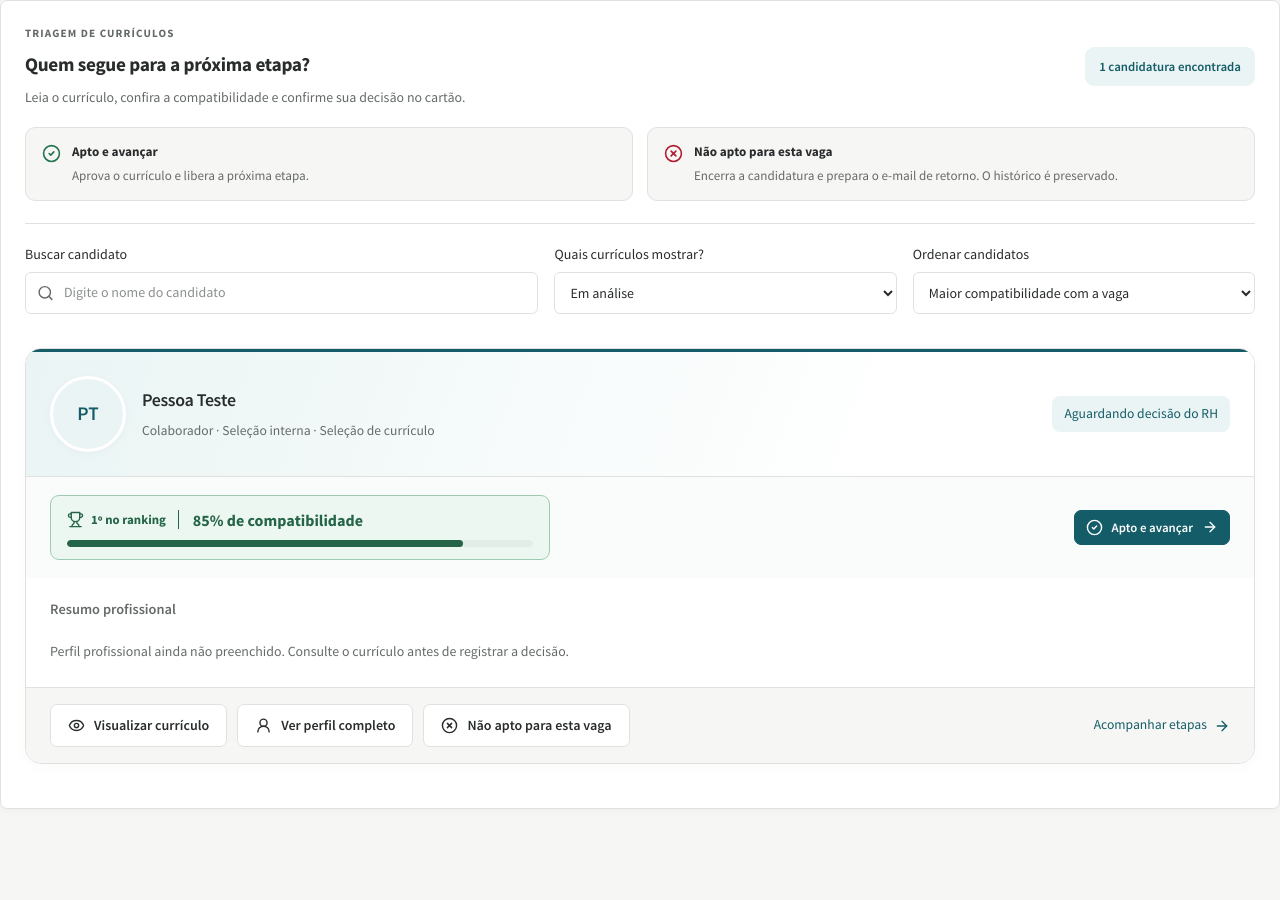
aprova e avança retirando a pessoa da triagem
Check: the text "85% de compatibilidade" is shown, box left=193, top=508, right=363, bottom=532
Check: the text "1º no ranking" is shown, box left=67, top=510, right=179, bottom=530
Click the button "Apto e avançar". click: point(1152, 527)
box: left=1074, top=510, right=1230, bottom=545
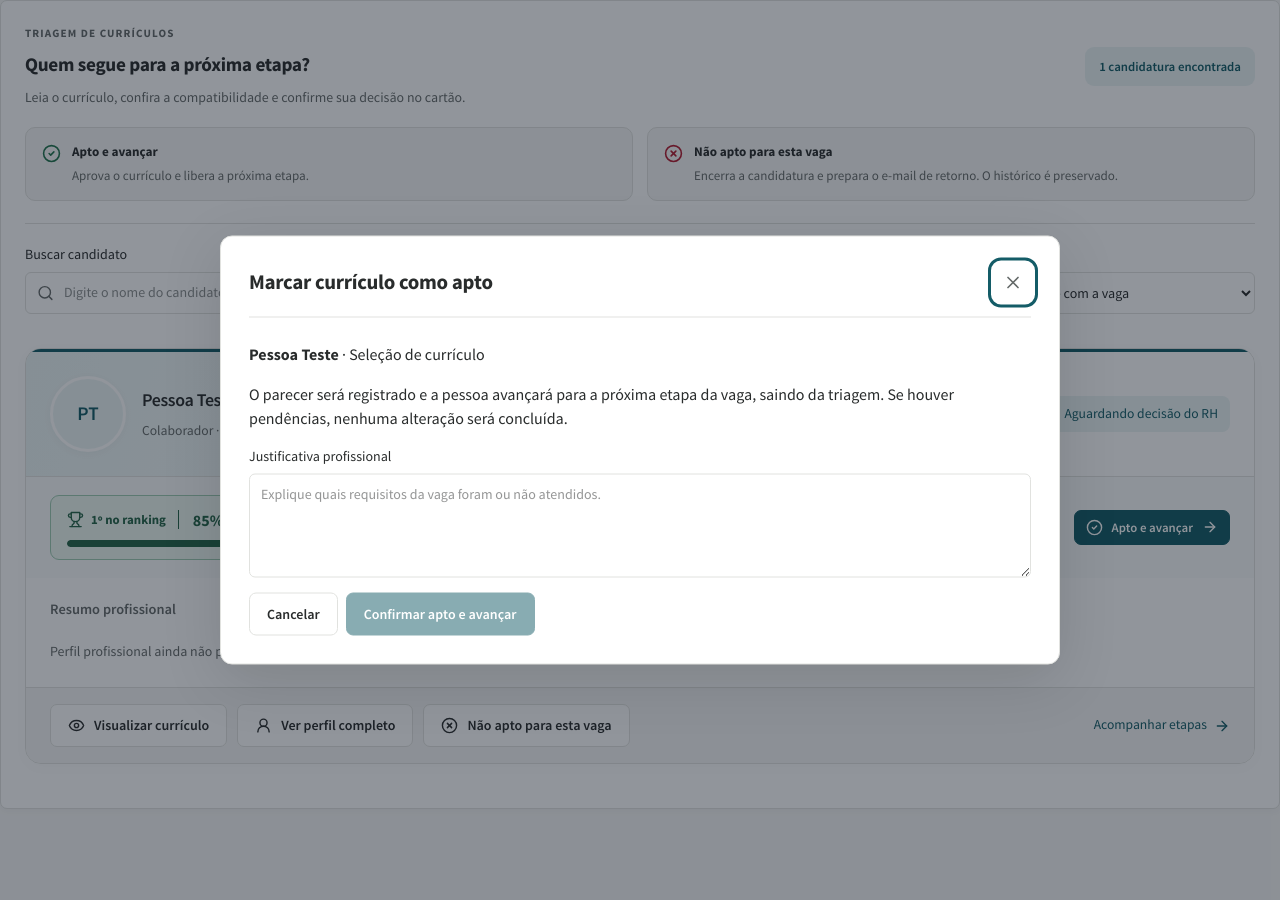
Type "Formação e experiência atendem aos requisitos" into the text box labelled "Justificativa profissional". click: point(640, 526)
box: left=249, top=474, right=1031, bottom=578
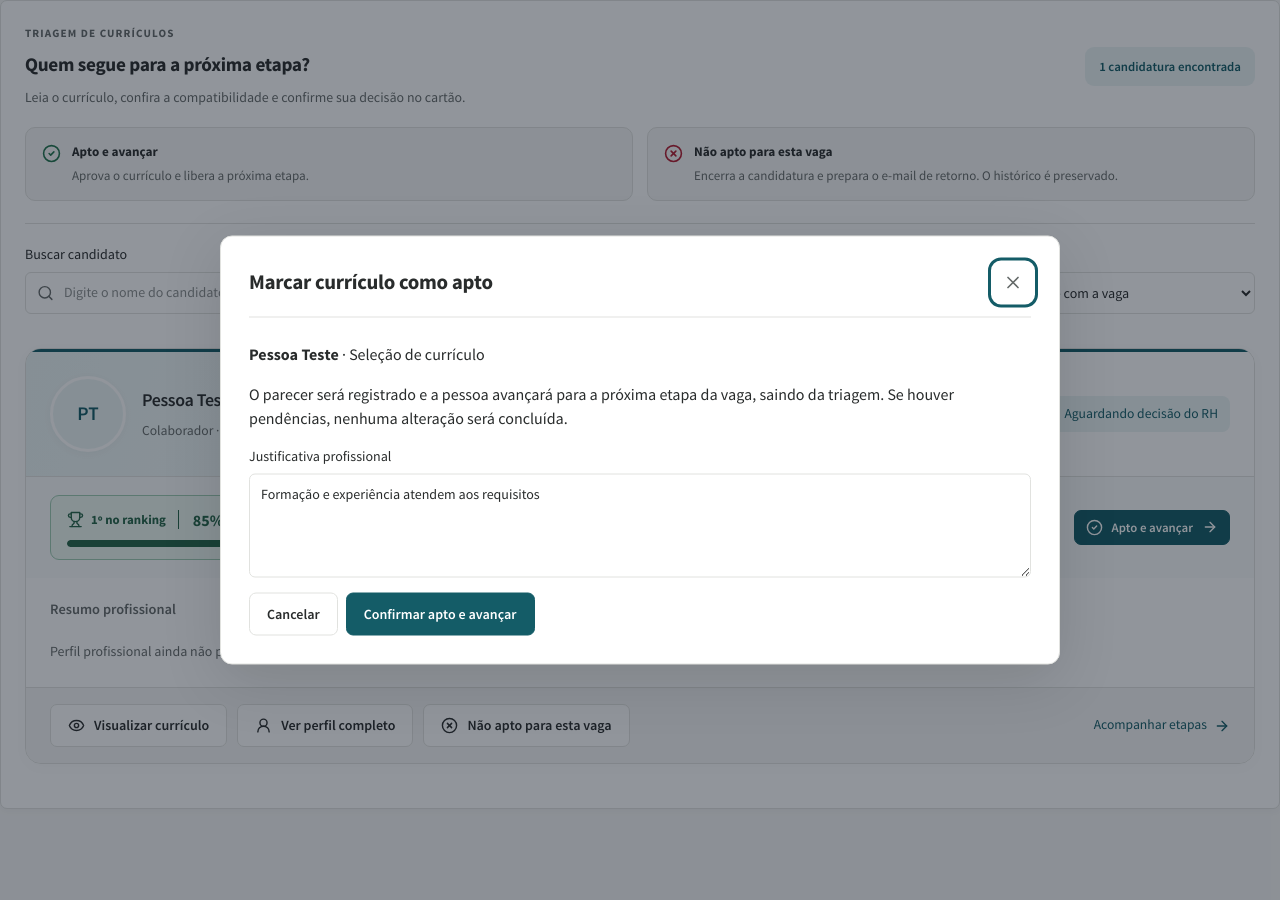
Click the button "Confirmar apto e avançar". click: point(440, 614)
box: left=346, top=592, right=535, bottom=636
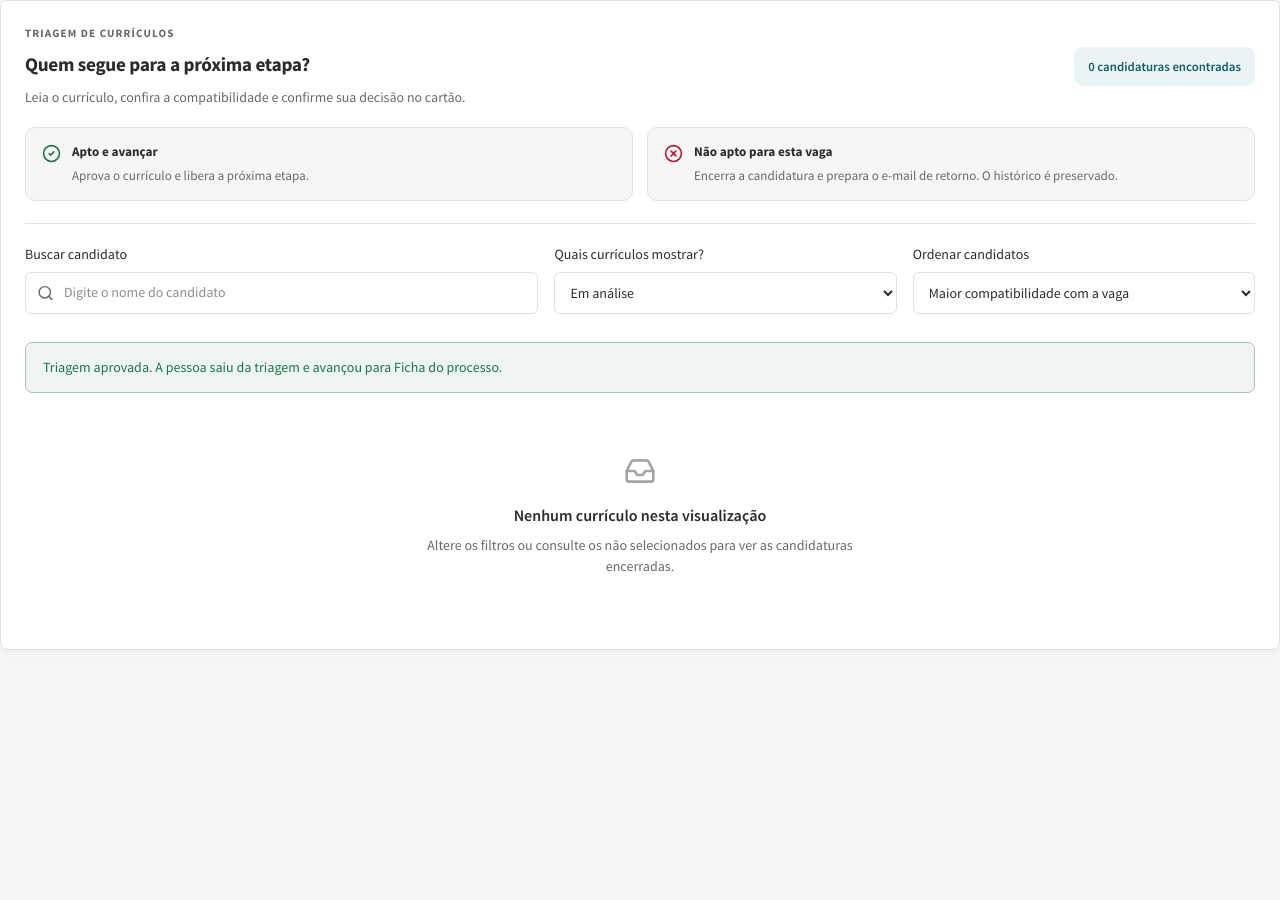
Check: the text "Triagem aprovada. A pessoa saiu da triagem e avançou para Ficha do processo." is shown, box left=25, top=342, right=1255, bottom=393
Check: the heading "Nenhum currículo nesta visualização" is shown, box left=514, top=505, right=766, bottom=525
